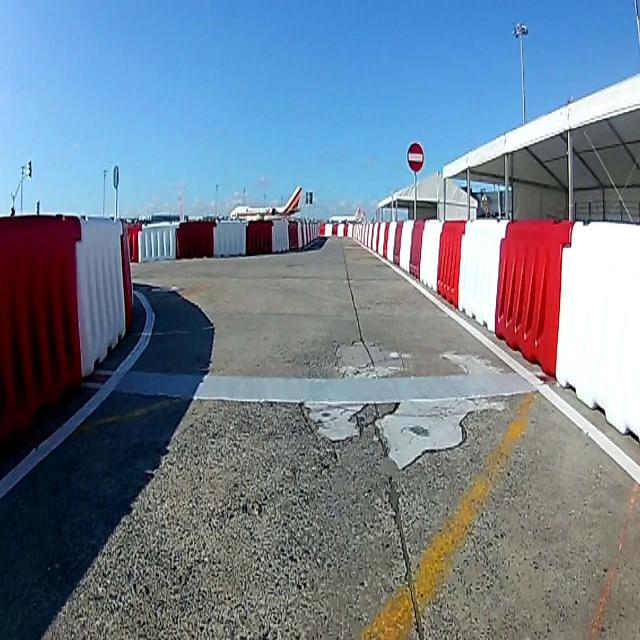girisyok: (406, 142, 424, 174)
